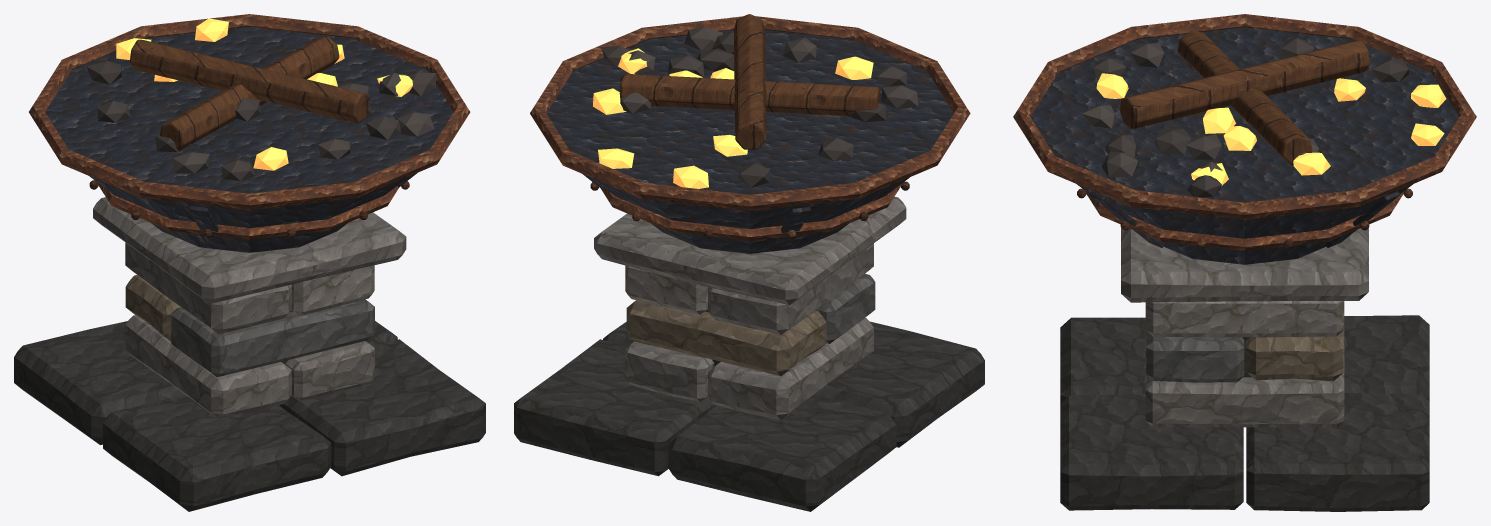
The model's file is beacon_bowl__cut_stone.glb.
3 renders of one model, left to right at view 1: azimuth 30°, elevation 25°; view 2: azimuth 150°, elevation 25°; view 3: azimuth 270°, elevation 25°, orthographic. The views are drawn at different scales.
Parts seen in each view (by area): view 1: model; view 2: model; view 3: model.
Part boxes in pixels (box(x1,y1,x2,y2)): model: box(14, 14, 485, 511); model: box(514, 14, 984, 511); model: box(1013, 14, 1476, 511).
Size of the model in its own units: 1.87 by 1.64 by 1.87.
21 materials, 9 textured.
